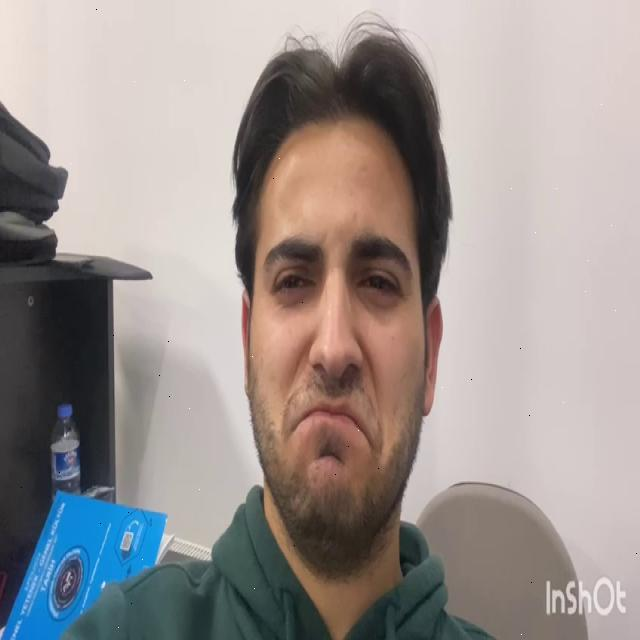sad: (249, 138, 435, 524)
